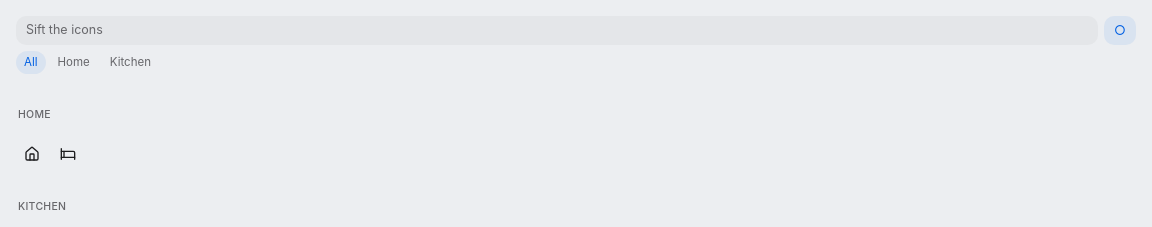
it: a catalogue offered by family › gives the whole catalogue back
Click the button "Kitchen".
click(130, 62)  # box [102,51,159,74]
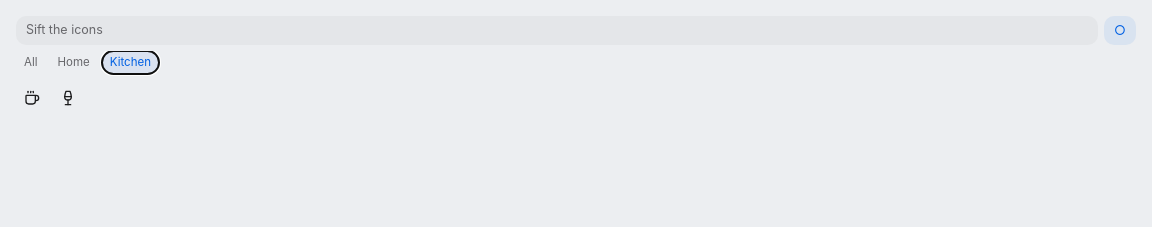
Click the button "All".
click(31, 62)  # box [16,51,46,74]
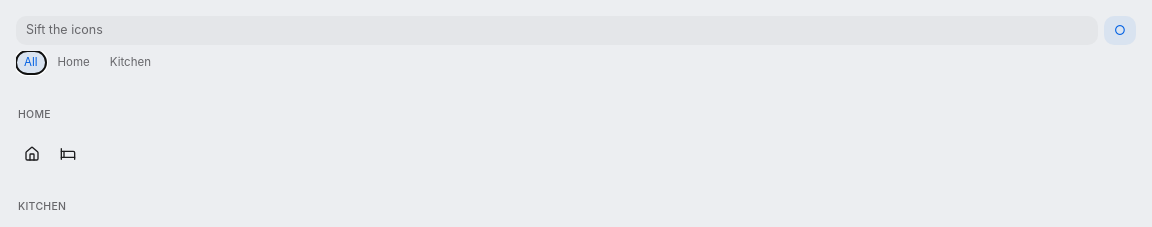
Result: the button named "bed" is shown at [52,138,84,170]
